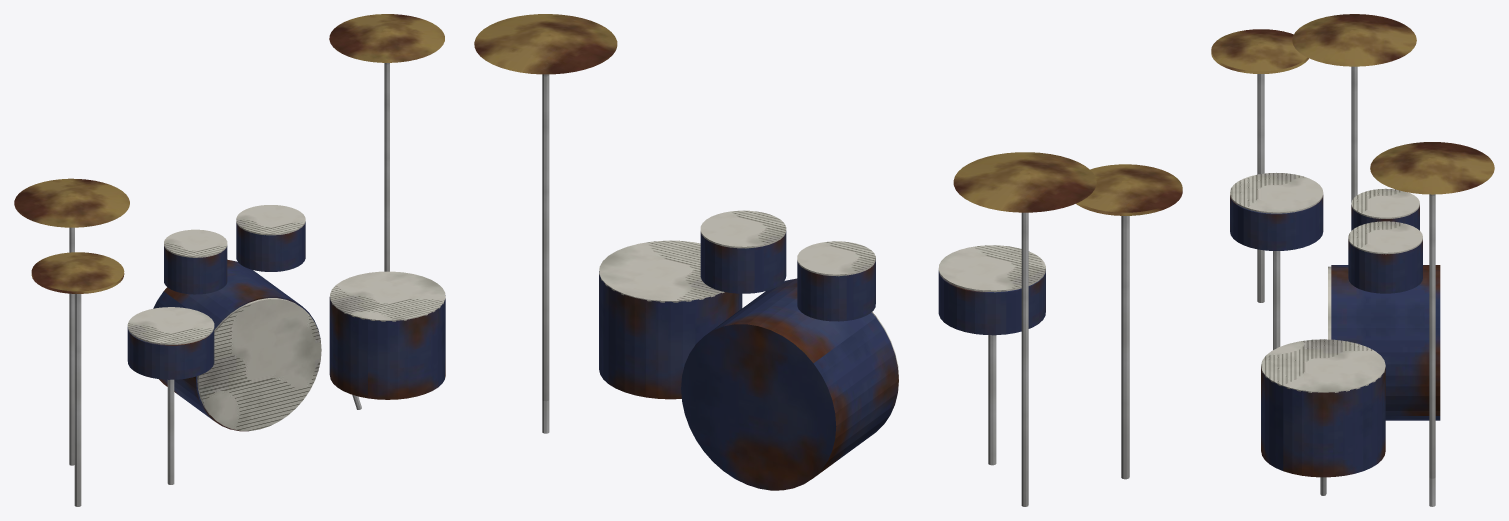
The model's file is MU08_SmallDrumKit.glb.
3 renders of one model, left to right at view 1: azimuth 30°, elevation 25°; view 2: azimuth 150°, elevation 25°; view 3: azimuth 270°, elevation 25°, orthographic. The views are drawn at different scales.
Parts seen in each view (by area): view 1: MU08_SmallDrumKit; view 2: MU08_SmallDrumKit; view 3: MU08_SmallDrumKit.
Boxes of the visible parts, x1=… form: MU08_SmallDrumKit: x1=14, y1=14, x2=445, y2=506; MU08_SmallDrumKit: x1=474, y1=14, x2=1182, y2=506; MU08_SmallDrumKit: x1=1211, y1=14, x2=1494, y2=506.
Size of the model in its own units: 1.5 by 0.9856 by 0.7147.
4 materials, 4 textured.
